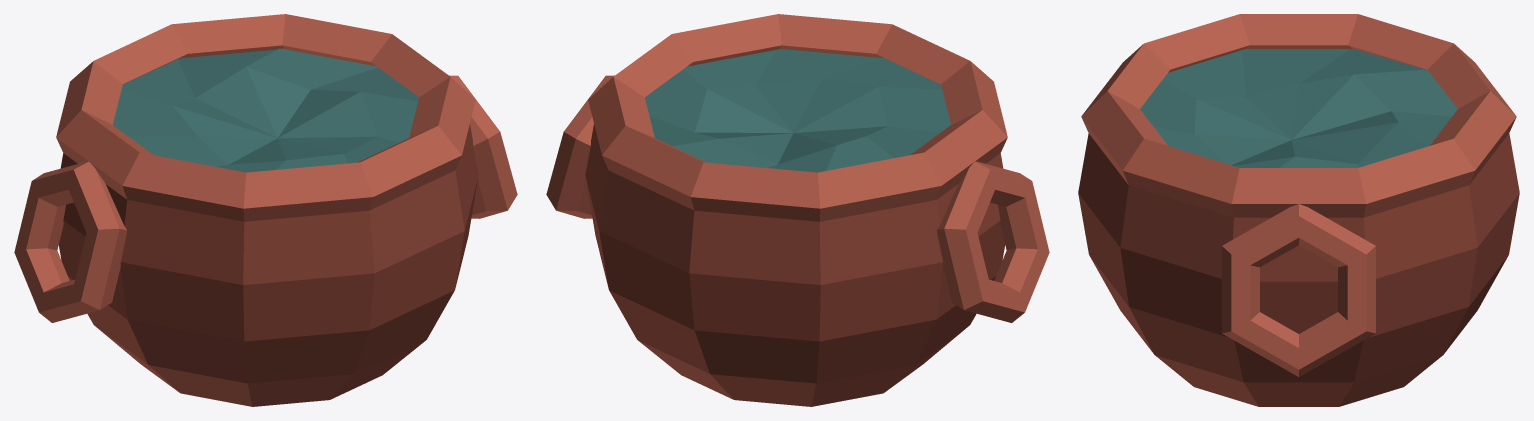
Rendered from Cauldron_2_Red.fbx.
The picture shows the model from 3 angles, left to right: view 1: azimuth 30°, elevation 25°; view 2: azimuth 150°, elevation 25°; view 3: azimuth 270°, elevation 25°; orthographic projection.
Parts seen in each view (by area): view 1: Cauldron_2_Red_Part_1, Cauldron_2_Red_Part_2, Cauldron_2_Red_Part_3; view 2: Cauldron_2_Red_Part_1, Cauldron_2_Red_Part_2, Cauldron_2_Red_Part_3; view 3: Cauldron_2_Red_Part_1, Cauldron_2_Red_Part_2, Cauldron_2_Red_Part_3.
Boxes of the visible parts, x1,y1,x2,y2 form: Cauldron_2_Red_Part_1: (58,124,478,406); Cauldron_2_Red_Part_2: (14,14,517,322); Cauldron_2_Red_Part_3: (113,48,418,172); Cauldron_2_Red_Part_1: (585,124,1005,406); Cauldron_2_Red_Part_2: (546,14,1049,322); Cauldron_2_Red_Part_3: (645,49,950,172); Cauldron_2_Red_Part_1: (1078,133,1519,406); Cauldron_2_Red_Part_2: (1081,14,1516,376); Cauldron_2_Red_Part_3: (1140,49,1457,167).
Size of the model in its own units: 241 by 132 by 200.
